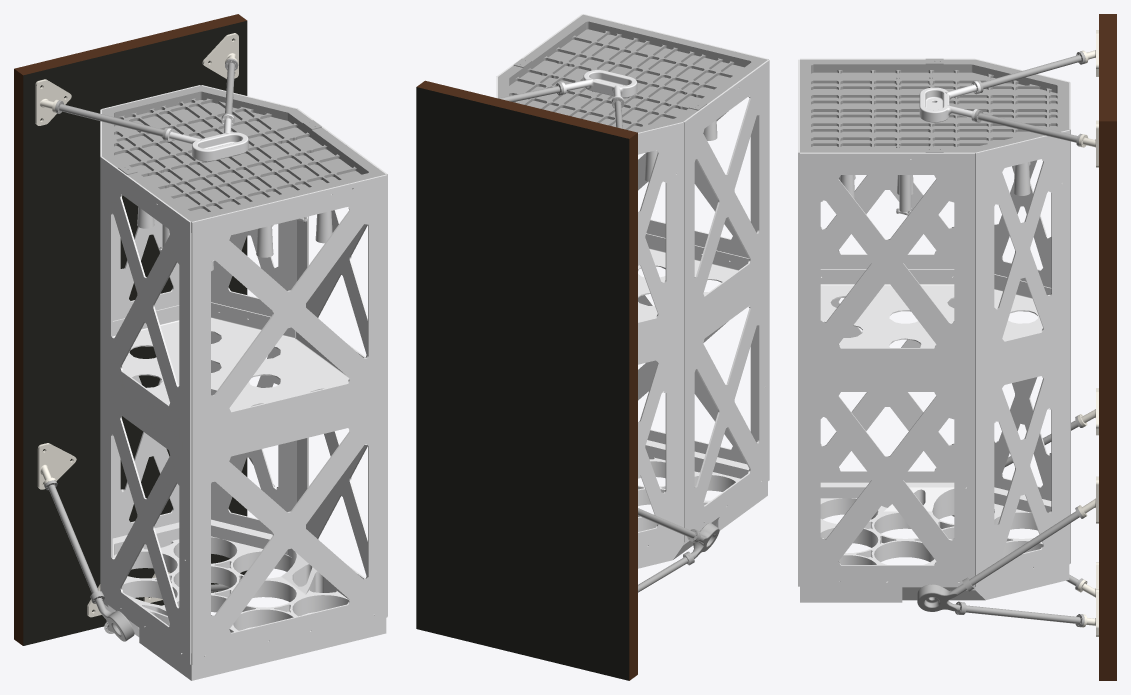
The model's file is Instrument.viewer.glb.
3 views of the same model, side by side, from view 1: azimuth 30°, elevation 25°; view 2: azimuth 150°, elevation 25°; view 3: azimuth 270°, elevation 25° (orthographic). The views are drawn at different scales.
Visible parts, largest first — view 1: Sandwich panel:1, Top Side Panel:1, Upper Side Panel:1, =>[0:1:1:85], Six_OB_B:1, middle rib:1, Lower Side Panel:2, Upper Side Panel:2, Bottom Side Panel:1, back fitting:1, Left back foot:1, Back Feet:2 (+4 smaller); view 2: Sandwich panel:1, Upper Side Panel:1, =>[0:1:1:85], Lower Side Panel:1, Top Side Panel:1, Six_OB_B:1, middle rib:1, back fitting:1, left fitting:1, Back OBA rod:2; view 3: Upper Side Panel:2, Lower Side Panel:2, =>[0:1:1:85], Sandwich panel:1, Six_OB_B:1, Upper Side Panel:1, middle rib:1, Lower Side Panel:1, back fitting:1, right fitting:1, Back OBA rod:1, Top Side Panel:1 (+6 smaller).
Part boxes in pixels (x1,y1,x2,y2): Sandwich panel:1: (14,14,247,645); Top Side Panel:1: (191,174,387,664); Upper Side Panel:1: (100,156,191,664); =>[0:1:1:85]: (102,85,385,232); Six_OB_B:1: (103,519,386,680); middle rib:1: (112,302,349,411); Lower Side Panel:2: (201,85,297,534); Upper Side Panel:2: (297,108,387,616); Bottom Side Panel:1: (101,85,200,538); back fitting:1: (165,114,248,161); Left back foot:1: (37,443,76,489); Back Feet:2: (35,79,71,125); Sandwich panel:1: (416,80,637,680); Upper Side Panel:1: (683,60,769,542); =>[0:1:1:85]: (498,14,767,132); Lower Side Panel:1: (638,122,683,553); Top Side Panel:1: (583,14,768,464); Six_OB_B:1: (638,440,767,568); middle rib:1: (638,233,749,321); back fitting:1: (560,70,637,101); left fitting:1: (686,523,719,563); Back OBA rod:2: (638,508,699,541); Upper Side Panel:2: (800,152,975,587); Lower Side Panel:2: (975,130,1069,586); =>[0:1:1:85]: (800,58,1069,152); Sandwich panel:1: (1099,14,1116,680); Six_OB_B:1: (800,482,1069,602); Upper Side Panel:1: (800,58,975,482); middle rib:1: (820,269,1051,347); Lower Side Panel:1: (975,59,1069,500); back fitting:1: (919,81,980,122); right fitting:1: (917,579,971,614); Back OBA rod:1: (964,507,1084,589); Top Side Panel:1: (798,59,799,586).
Bounding box in the file's own units: 0.4264 × 1.04 × 0.535.
